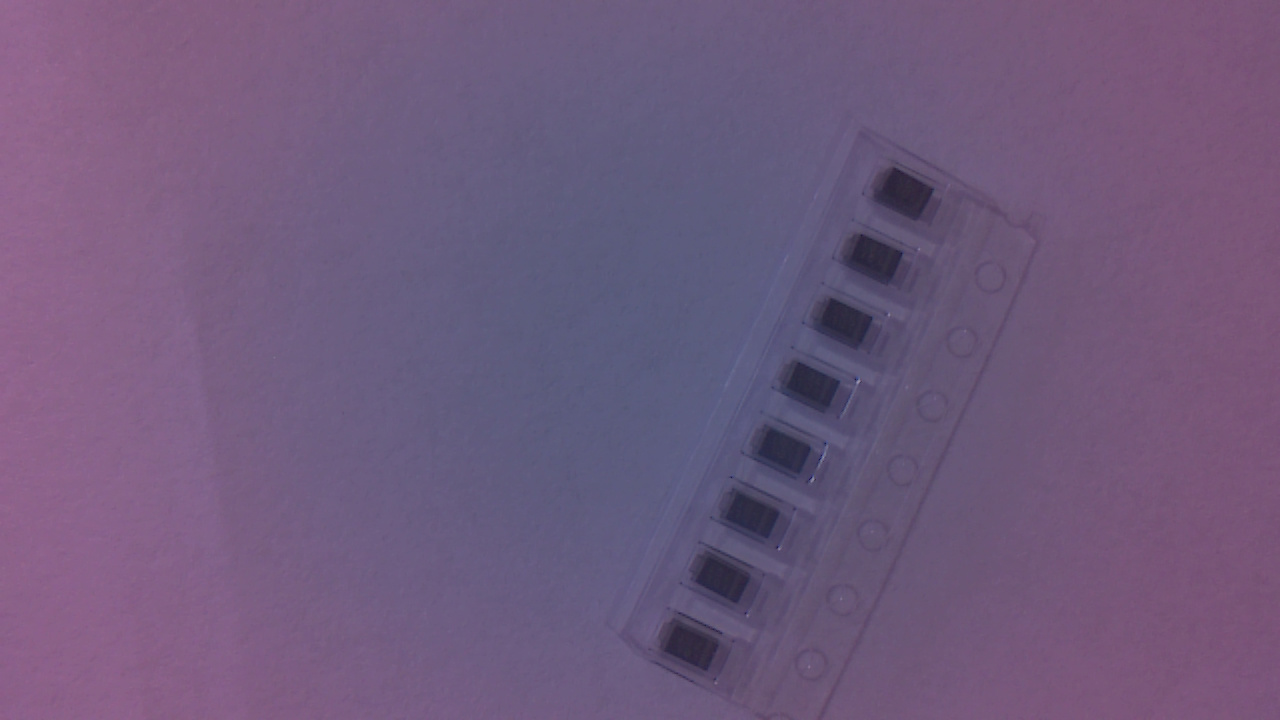Diode: (690, 557, 763, 610), (723, 492, 793, 546), (779, 365, 849, 418), (657, 623, 729, 674), (843, 235, 912, 288), (751, 429, 825, 477), (867, 175, 944, 221), (814, 303, 886, 352)
